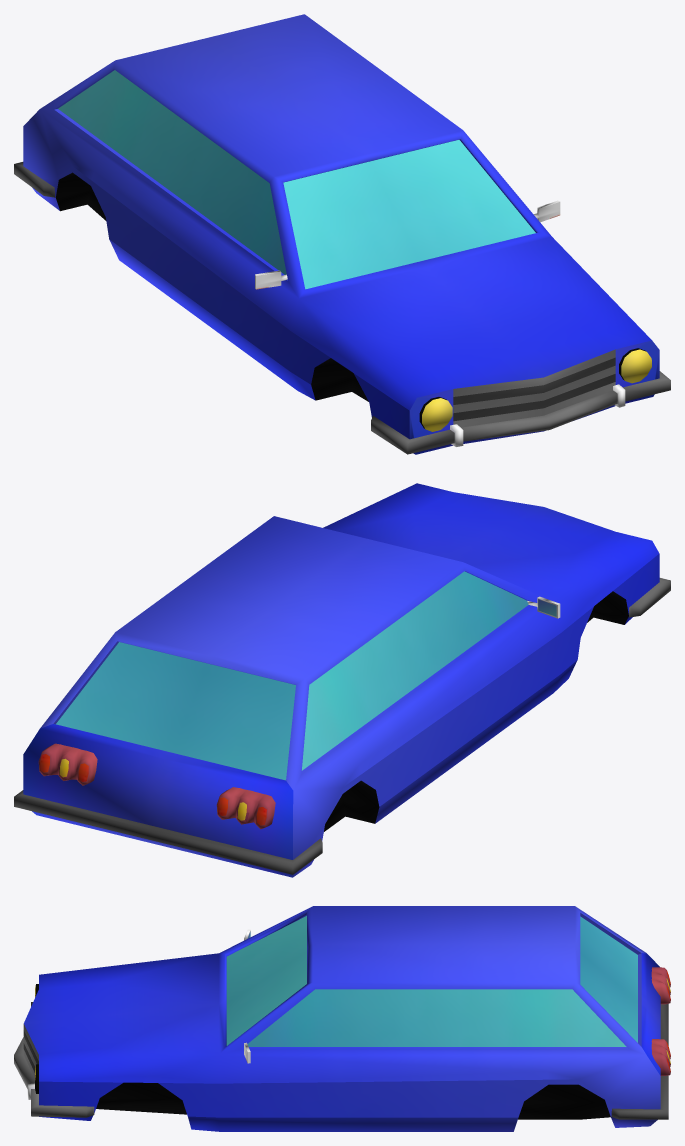
Rendered from Car_1.fbx.
3 renders of one model, top to bottom at view 1: azimuth 30°, elevation 25°; view 2: azimuth 150°, elevation 25°; view 3: azimuth 270°, elevation 25°, orthographic. The views are drawn at different scales.
Visible parts, largest first — view 1: Car_1; view 2: Car_1; view 3: Car_1.
Part boxes in pixels (bbox=[...]): Car_1: bbox=[14, 14, 670, 454]; Car_1: bbox=[14, 483, 670, 877]; Car_1: bbox=[14, 906, 670, 1131].
Bounding box in the file's own units: 249 × 128 × 563.
1 material, 1 textured.
